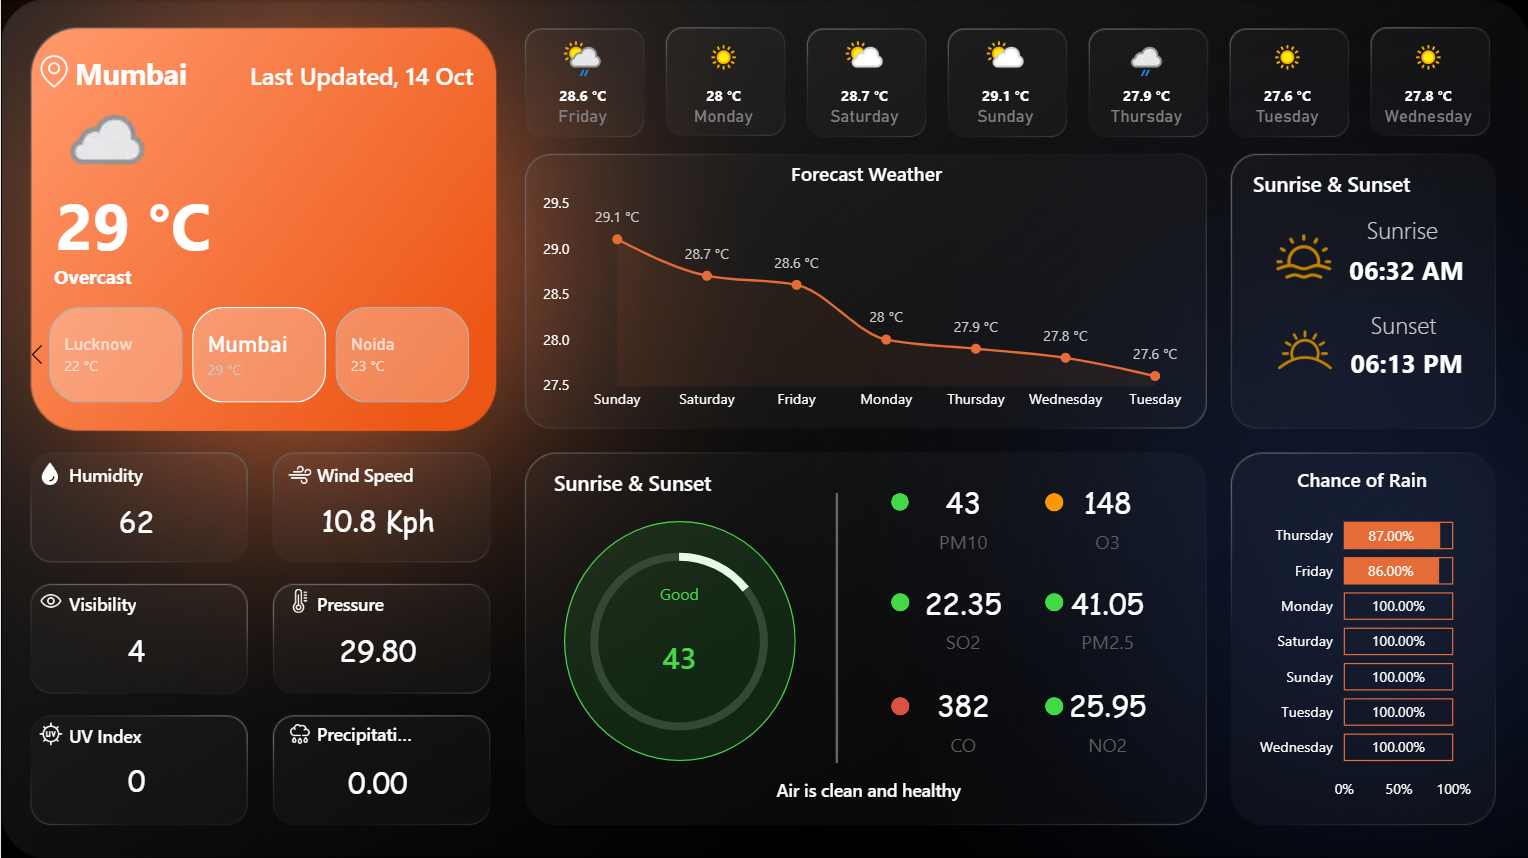

The page's visual inventory and layout, read from the dashboard file:
{"tool":"powerbi","page":{"name":"Page 1","canvas":[1280,720],"ordinal":0},"visuals":[{"type":"donutChart","fields":{"Y":["Sum(Current.current.air_quality.pm10)","_Measures.Left_value_PM10"]},"box":[470,426,196,222],"z":0},{"type":"advancedSlicerVisual","fields":{"Values":["Locations.location.name"]},"box":[15.1,251.9,403.3,90.8],"z":1000},{"type":"shape","box":[15.7,141.4,190,90],"z":2000},{"type":"shape","box":[44.7,213.8,356.3,34.9],"z":3000},{"type":"shape","box":[61.9,44,133.5,34.4],"z":4000},{"type":"shape","box":[208.2,46.1,206.8,33.5],"z":5000},{"type":"image","box":[26.2,39.9,37.2,39.9],"z":6000},{"type":"cardVisual","fields":{"Data":["Min(Current.current.condition.icon)"]},"box":[0,55.7,150,111.4],"z":7000},{"type":"image","box":[27,488.5,29.6,29.6],"z":8000},{"type":"shape","box":[264.7,384,83.6,26.1],"z":9000},{"type":"image","box":[26.1,381.4,30.5,30.5],"z":10000},{"type":"image","box":[235.1,382.3,29.6,29.6],"z":11000},{"type":"image","box":[235.1,488.5,29.6,29.6],"z":12000},{"type":"image","box":[27,599.1,29.6,29.6],"z":13000},{"type":"image","box":[235.1,599.1,29.6,29.6],"z":14000},{"type":"shape","box":[56.6,492,83.6,26.1],"z":15000},{"type":"shape","box":[56.6,602.6,83.6,26.1],"z":16000},{"type":"shape","box":[264.7,600.8,83.6,26.1],"z":17000},{"type":"shape","box":[264.7,492,83.6,26.1],"z":18000},{"type":"shape","box":[56.6,384,83.6,26.1],"z":19000},{"type":"card","fields":{"Values":["Sum(Current.current.humidity)"]},"box":[62,410.2,103,55.3],"z":20000},{"type":"card","fields":{"Values":["Sum(Current.current.uv)"]},"box":[62,627.1,103,56.1],"z":21000},{"type":"card","fields":{"Values":["Sum(Current.current.vis_km)"]},"box":[62,518.2,103,56.1],"z":22000},{"type":"card","fields":{"Values":["Sum(Current.current.precip_in)"]},"box":[264.1,628.8,103.4,55.9],"z":23000},{"type":"card","fields":{"Values":["Sum(Current.current.pressure_in)"]},"box":[264.1,518.4,103.4,55.9],"z":24000},{"type":"card","fields":{"Values":["_Measures.Wind_Speed"]},"box":[254.5,409.4,122.2,56.1],"z":25000},{"type":"advancedSlicerVisual","fields":{"Values":["Forcast_Day.Day_Name"]},"box":[429.4,23.4,829.9,100.5],"z":26000},{"type":"lineChart","title":"Forecast Weather","fields":{"Y":["Sum(Forcast_Day.forecast.forecastday.day.avgtemp_c)"],"Category":["Forcast_Day.Day_Name"]},"box":[447.9,134.8,553.4,217.7],"z":27000},{"type":"shape","box":[1048.4,140.9,152.4,25.9],"z":28000},{"type":"shape","box":[1081.3,180,190.5,90.7],"z":29000},{"type":"shape","box":[1081.3,257.5,190.5,90.7],"z":30000},{"type":"shape","box":[1132.6,257.5,82.8,26.3],"z":31000},{"type":"shape","box":[1131.2,178.7,84.1,26.3],"z":32000},{"type":"image","box":[1051.1,186.6,80.1,56.5],"z":33000},{"type":"image","box":[1051.1,257.5,81.5,69.6],"z":34000},{"type":"hundredPercentStackedBarChart","title":"Chance of Rain","fields":{"Y":["Sum(Forcast_Day.forecast.forecastday.day.daily_chance_of_rain)","Current.Left_value_Rain"],"Category":["Forcast_Day.Day_Name"]},"box":[1043.3,390.9,192.7,287.7],"z":35000},{"type":"shape","box":[463.1,391.2,152.4,25.9],"z":36000},{"type":"card","fields":{"Values":["Sum(Current.current.air_quality.o3)"]},"box":[866.4,397,119.9,72.4],"z":37000},{"type":"card","fields":{"Values":["Sum(Current.current.air_quality.pm10)"]},"box":[745.5,397,121,72.4],"z":38000},{"type":"card","fields":{"Values":["Sum(Current.current.air_quality.so2)"]},"box":[745.5,481.8,121,71.3],"z":39000},{"type":"card","fields":{"Values":["Sum(Current.current.air_quality.pm2_5)"]},"box":[866.4,481.8,119.9,71.3],"z":40000},{"type":"card","fields":{"Values":["Sum(Current.current.air_quality.co)"]},"box":[745.5,566.6,121,72.4],"z":41000},{"type":"card","fields":{"Values":["Sum(Current.current.air_quality.no2)"]},"box":[866.4,566.6,119.9,72.4],"z":42000},{"type":"shape","box":[745.5,412.5,15,15],"z":43000},{"type":"shape","box":[873.7,412.5,15.5,15.5],"z":44000},{"type":"shape","box":[745.5,496.3,15.5,15.5],"z":45000},{"type":"shape","box":[745.5,583.1,15.5,15.5],"z":46000},{"type":"shape","box":[873.7,583.1,15.5,15.5],"z":47000},{"type":"shape","box":[873.7,496.3,15.5,15.5],"z":48000},{"type":"shape","box":[675,413,50,226],"z":49000},{"type":"shape","box":[471,436,194,201],"z":50000},{"type":"card","fields":{"Values":["Sum(Current.current.air_quality.pm10)"]},"box":[504,488,128,109],"z":51000},{"type":"shape","box":[572,648,309,26],"z":52000}]}

Visuals, with their boxes in screenshot pixels (x1, y1, x2, y2), scaled from the page's 1280x720 canvas onto the 1528x858 screenshot:
donutChart - Sum(Current.current.air_quality.pm10) x _Measures.Left_value_PM10: x1=561, y1=508, x2=795, y2=772
advancedSlicerVisual - Locations.location.name: x1=18, y1=300, x2=499, y2=408
shape: x1=19, y1=169, x2=246, y2=276
shape: x1=53, y1=255, x2=479, y2=296
shape: x1=74, y1=52, x2=233, y2=93
shape: x1=249, y1=55, x2=495, y2=95
image: x1=31, y1=48, x2=76, y2=95
cardVisual - Min(Current.current.condition.icon): x1=0, y1=66, x2=179, y2=199
image: x1=32, y1=582, x2=68, y2=617
shape: x1=316, y1=458, x2=416, y2=489
image: x1=31, y1=455, x2=68, y2=491
image: x1=281, y1=456, x2=316, y2=491
image: x1=281, y1=582, x2=316, y2=617
image: x1=32, y1=714, x2=68, y2=749
image: x1=281, y1=714, x2=316, y2=749
shape: x1=68, y1=586, x2=167, y2=617
shape: x1=68, y1=718, x2=167, y2=749
shape: x1=316, y1=716, x2=416, y2=747
shape: x1=316, y1=586, x2=416, y2=617
shape: x1=68, y1=458, x2=167, y2=489
card - Sum(Current.current.humidity): x1=74, y1=489, x2=197, y2=555
card - Sum(Current.current.uv): x1=74, y1=747, x2=197, y2=814
card - Sum(Current.current.vis_km): x1=74, y1=618, x2=197, y2=684
card - Sum(Current.current.precip_in): x1=315, y1=749, x2=439, y2=816
card - Sum(Current.current.pressure_in): x1=315, y1=618, x2=439, y2=684
card - _Measures.Wind_Speed: x1=304, y1=488, x2=450, y2=555
advancedSlicerVisual - Forcast_Day.Day_Name: x1=513, y1=28, x2=1503, y2=148
"Forecast Weather" lineChart: x1=535, y1=161, x2=1195, y2=420
shape: x1=1252, y1=168, x2=1433, y2=199
shape: x1=1291, y1=214, x2=1518, y2=323
shape: x1=1291, y1=307, x2=1518, y2=415
shape: x1=1352, y1=307, x2=1451, y2=338
shape: x1=1350, y1=213, x2=1451, y2=244
image: x1=1255, y1=222, x2=1350, y2=290
image: x1=1255, y1=307, x2=1352, y2=390
"Chance of Rain" hundredPercentStackedBarChart: x1=1245, y1=466, x2=1475, y2=809
shape: x1=553, y1=466, x2=735, y2=497
card - Sum(Current.current.air_quality.o3): x1=1034, y1=473, x2=1177, y2=559
card - Sum(Current.current.air_quality.pm10): x1=890, y1=473, x2=1034, y2=559
card - Sum(Current.current.air_quality.so2): x1=890, y1=574, x2=1034, y2=659
card - Sum(Current.current.air_quality.pm2_5): x1=1034, y1=574, x2=1177, y2=659
card - Sum(Current.current.air_quality.co): x1=890, y1=675, x2=1034, y2=761
card - Sum(Current.current.air_quality.no2): x1=1034, y1=675, x2=1177, y2=761
shape: x1=890, y1=492, x2=908, y2=509
shape: x1=1043, y1=492, x2=1061, y2=510
shape: x1=890, y1=591, x2=908, y2=610
shape: x1=890, y1=695, x2=908, y2=713
shape: x1=1043, y1=695, x2=1061, y2=713
shape: x1=1043, y1=591, x2=1061, y2=610
shape: x1=806, y1=492, x2=865, y2=761
shape: x1=562, y1=520, x2=794, y2=759
card - Sum(Current.current.air_quality.pm10): x1=602, y1=582, x2=754, y2=711
shape: x1=683, y1=772, x2=1052, y2=803
